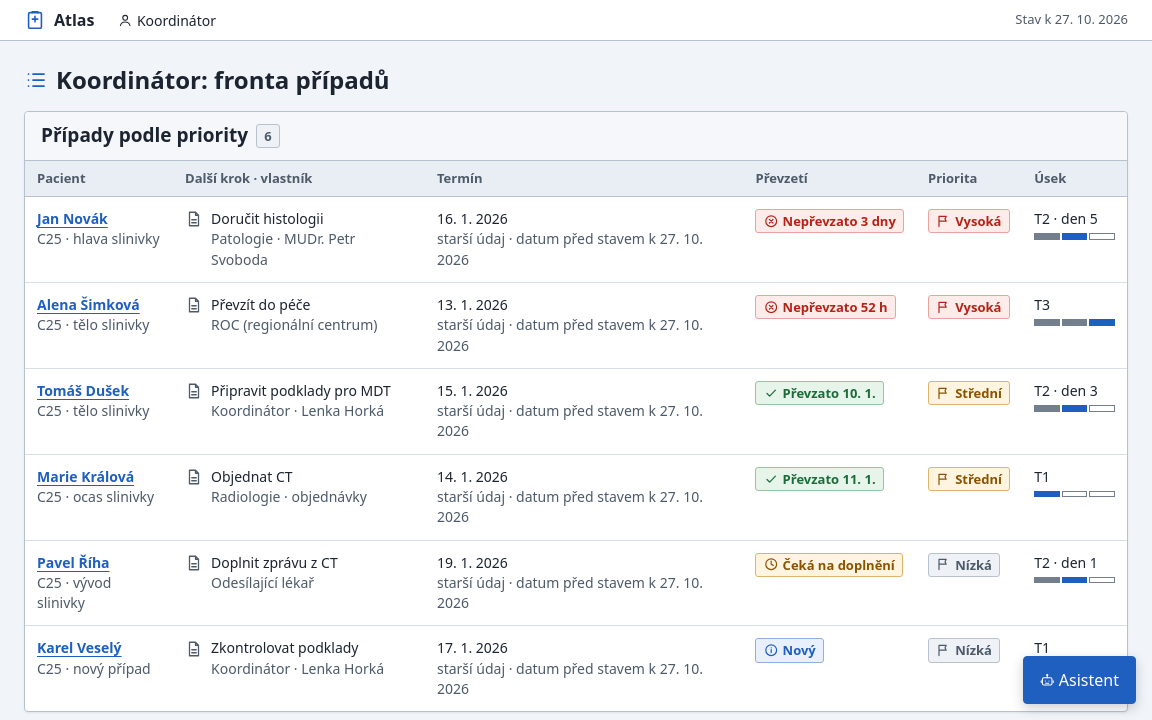
Test: patient graphics and keyboard › modifier clicks keep native link behaviour; Enter on the row link opens the case
This screenshot has width=1152, height=720.
Type keys "{Control>}"
Click the text "T3": (1042, 304) [1034, 295, 1115, 326]
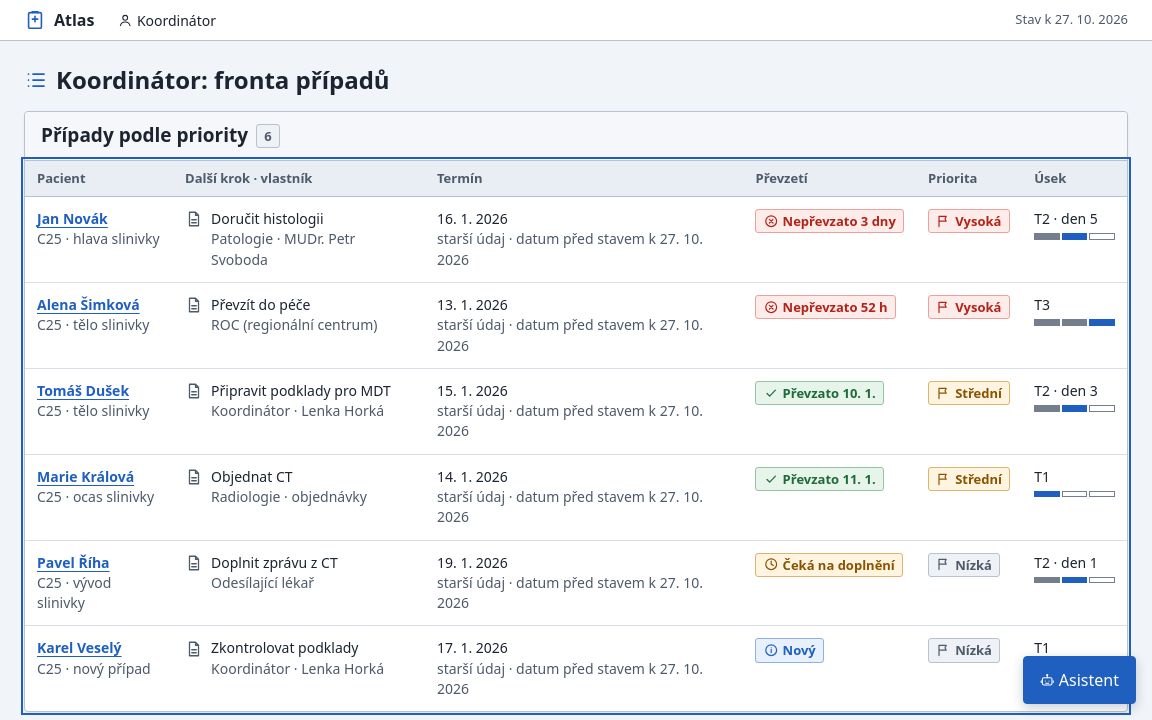
Type keys "{/Control}"
Click the link "Alena Šimková": (88, 304) [37, 295, 140, 314]
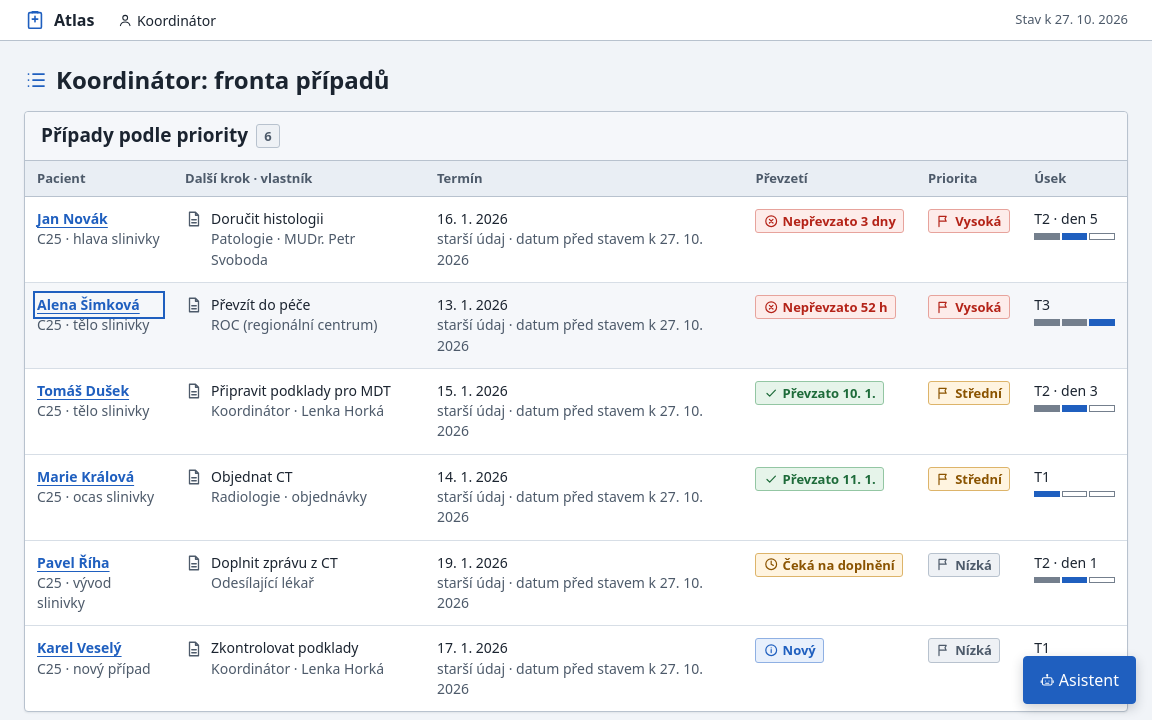
Press Enter
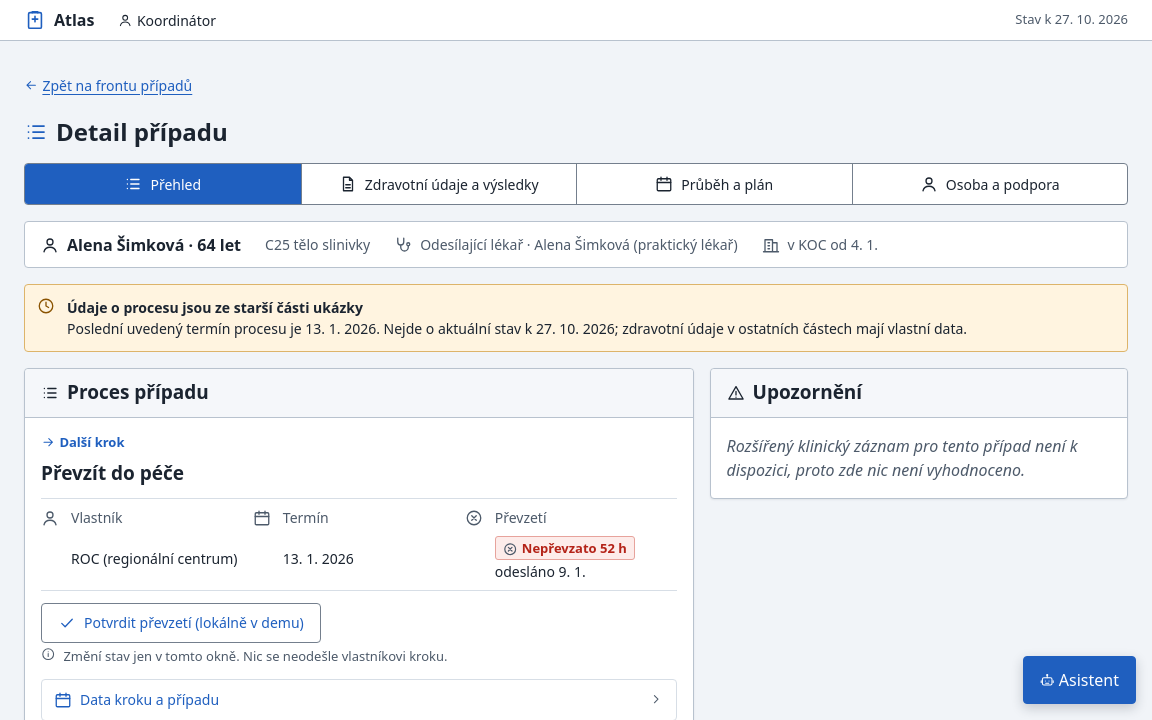
Result: the heading "Alena Šimková · 64 let" is shown at [41, 234, 241, 254]
